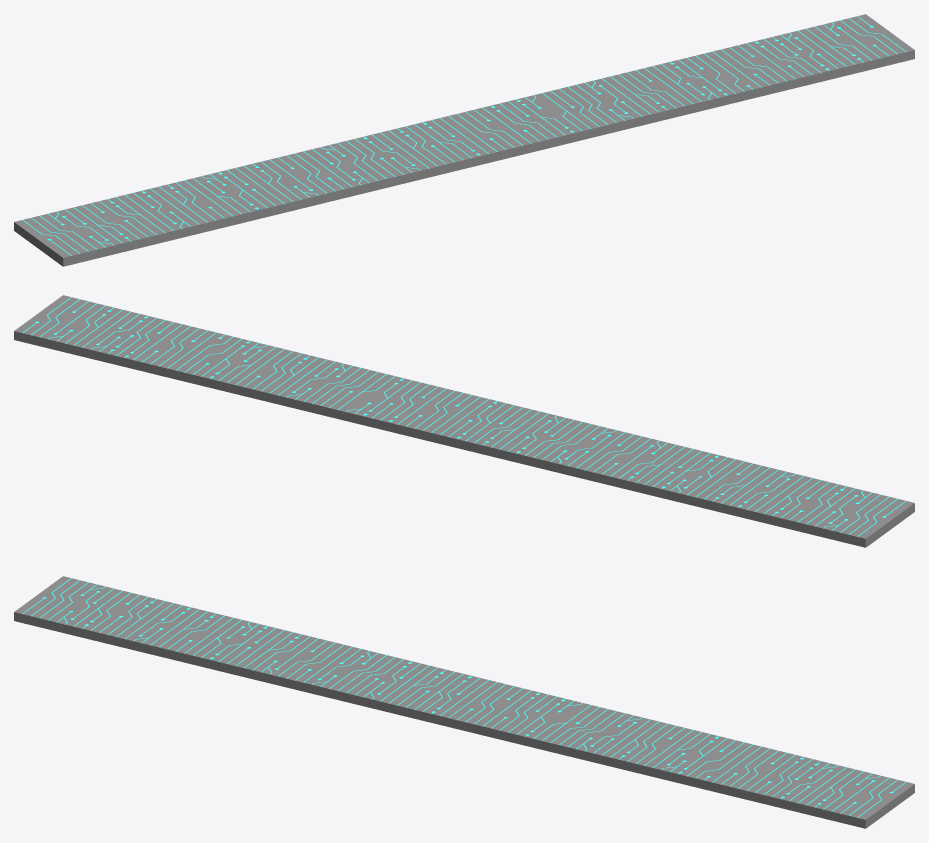
Rendered from floor_metallic.glb.
The picture shows the model from 3 angles, top to bottom: view 1: azimuth 30°, elevation 25°; view 2: azimuth 150°, elevation 25°; view 3: azimuth 330°, elevation 25°; orthographic projection.
Visible parts, largest first — view 1: Cube, StraightLine.010; view 2: Cube, StraightLine.010; view 3: Cube, StraightLine.010.
Part boxes in pixels (x1,y1,x2,y2): Cube: (14,14,914,266); StraightLine.010: (22,16,906,255); Cube: (14,295,914,547); StraightLine.010: (22,297,906,536); Cube: (14,576,914,828); StraightLine.010: (22,578,906,817).
Bounding box in the file's own units: 200 × 2.01 × 20.04.
